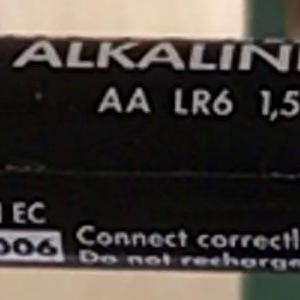ALK: (4, 32, 103, 77)
